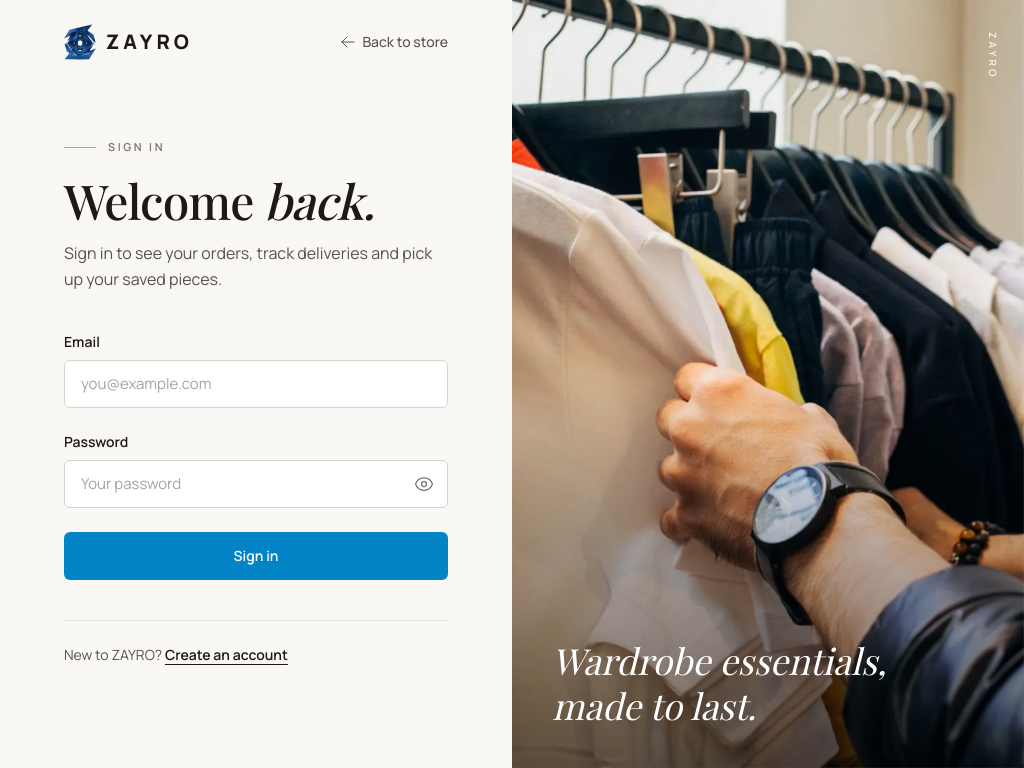
Test: login: shows the server error and validates empty fields
This screenshot has width=1024, height=768.
Step 1. Click the button "Sign in" → coordinates (256, 556), box [64,532,448,580]
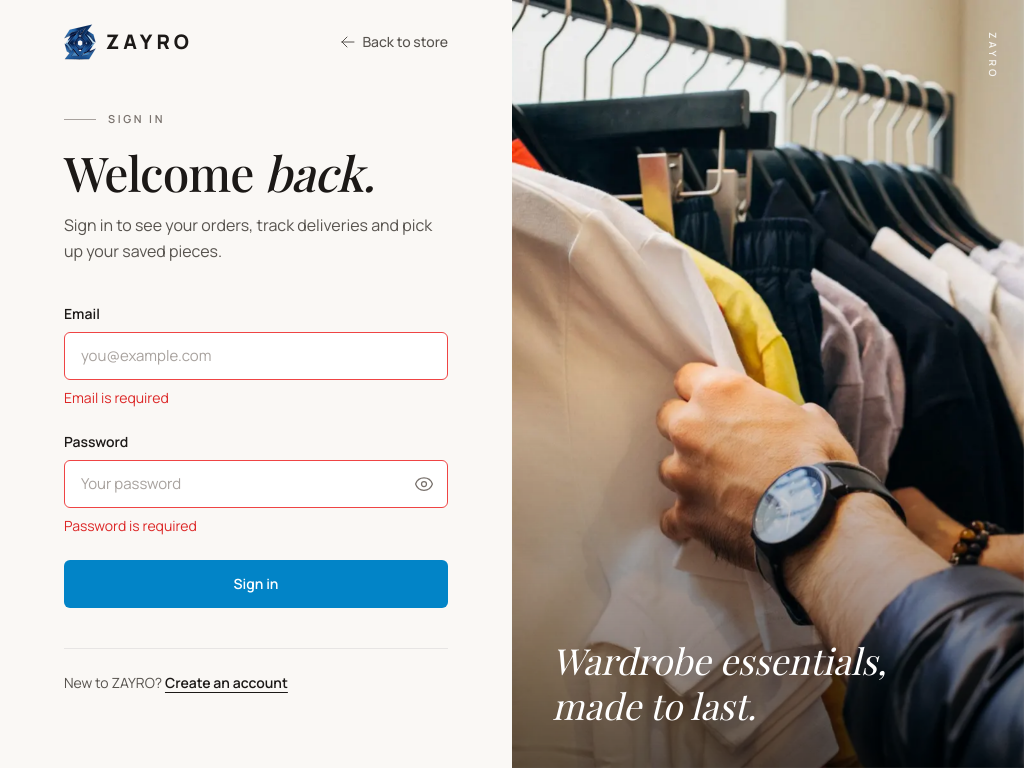
Check: the text "Email is required" is shown, box [64,388,169,407]
Step 2. Type "sara@example.com" into the field labelled "Email" → coordinates (256, 356), box [64,332,448,380]
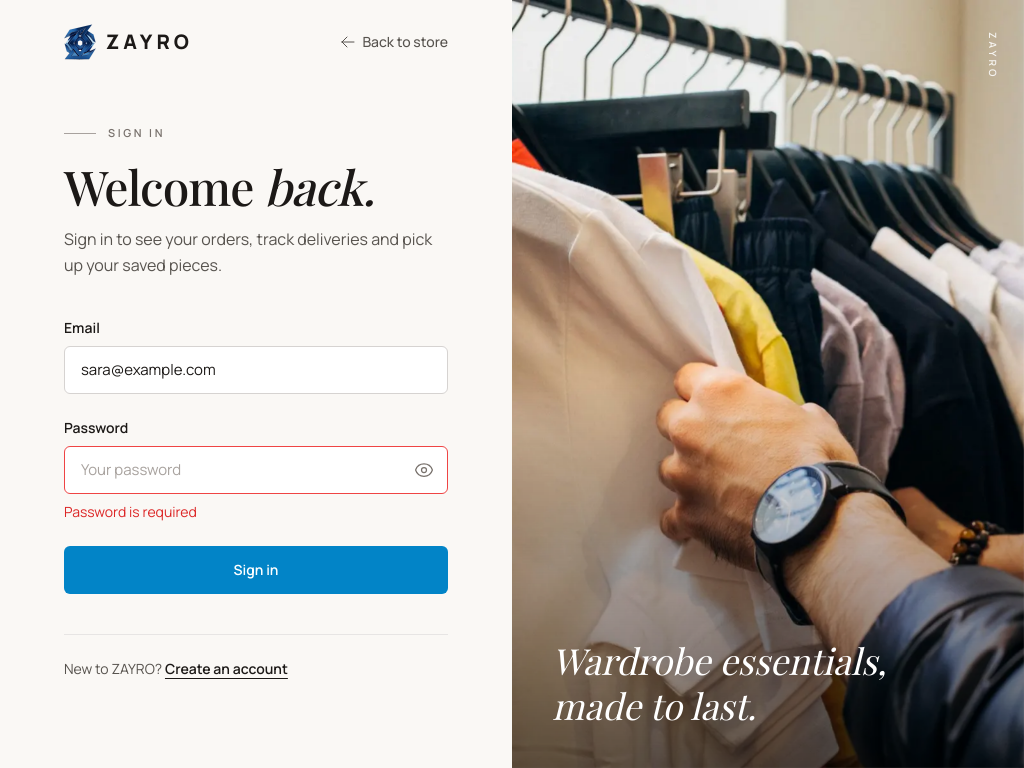
Step 3. Type "wrong" into the password field labelled "Password" → coordinates (256, 470), box [64,446,448,494]
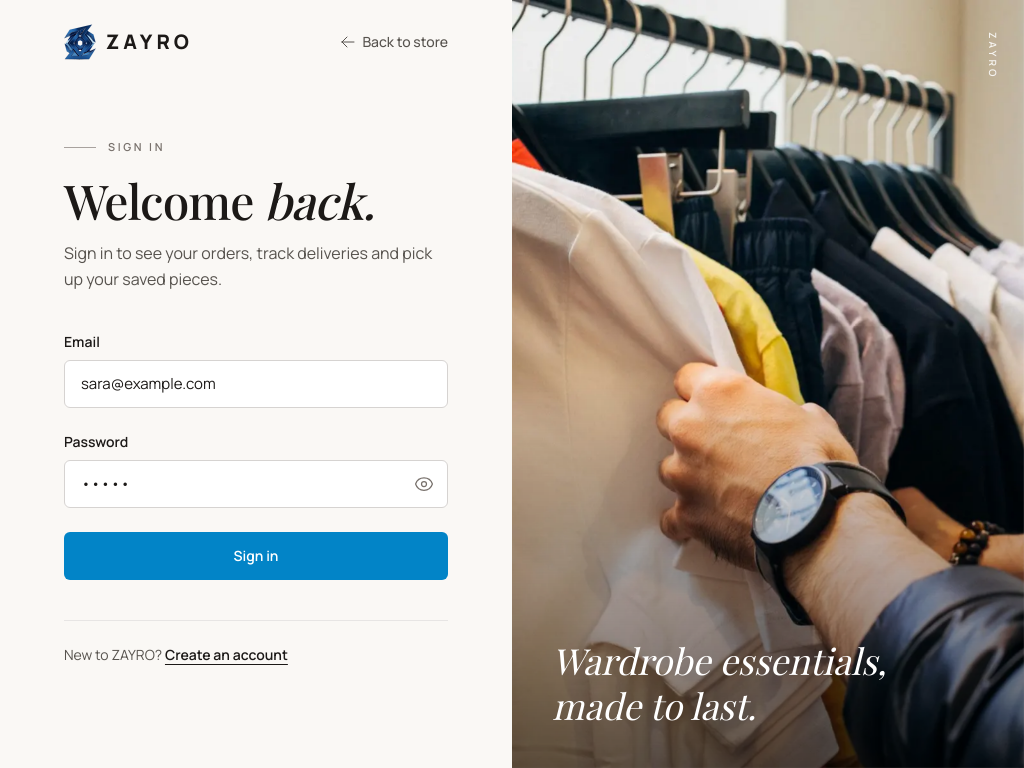
Step 4. Click the button "Sign in" → coordinates (256, 556), box [64,532,448,580]
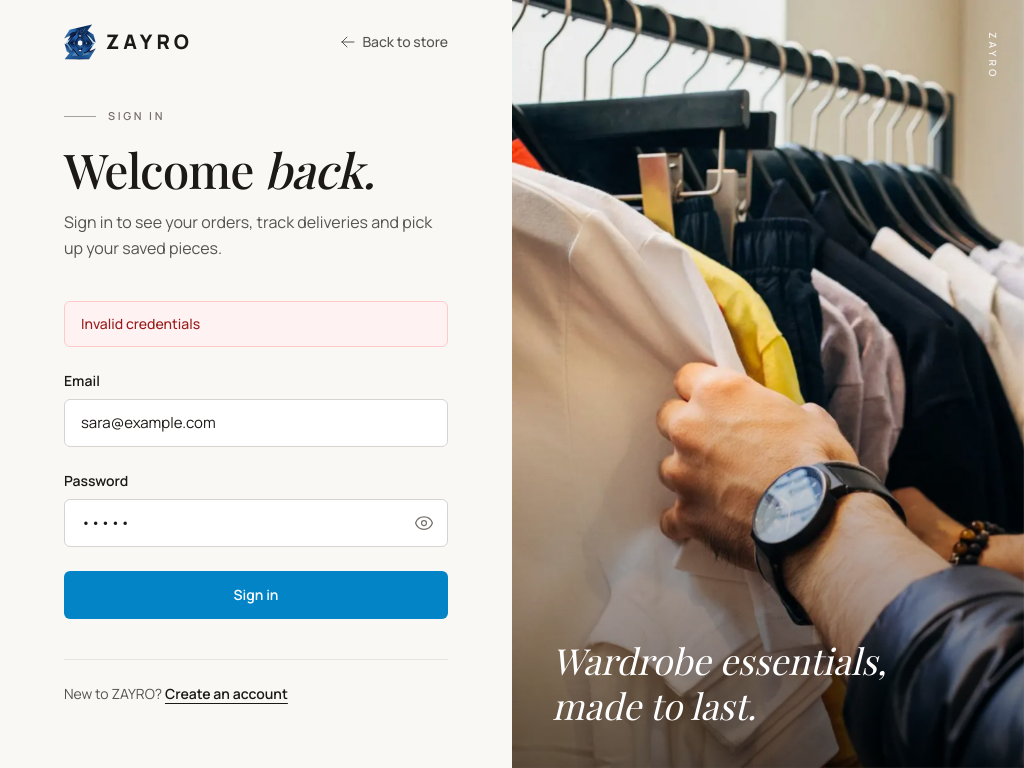
Check: the message reads "Invalid credentials", box [81,314,200,332]
